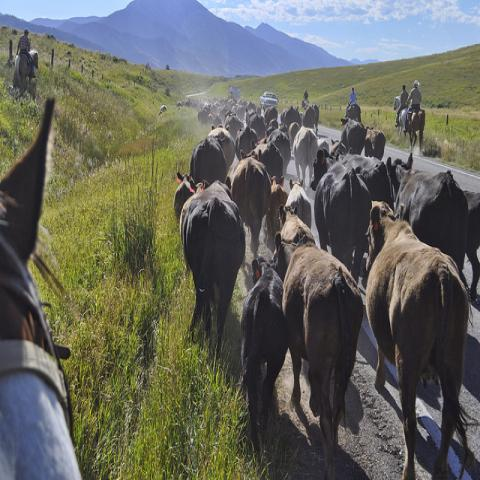truck: (259, 92, 278, 112)
